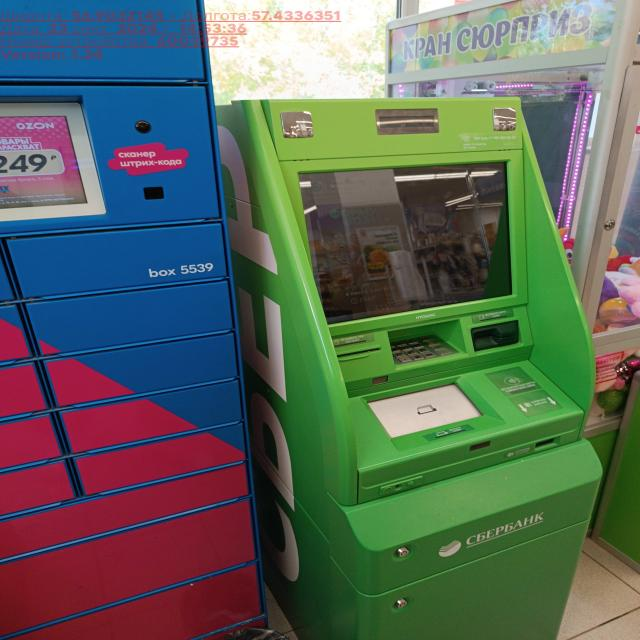bank: (213, 101, 606, 640)
